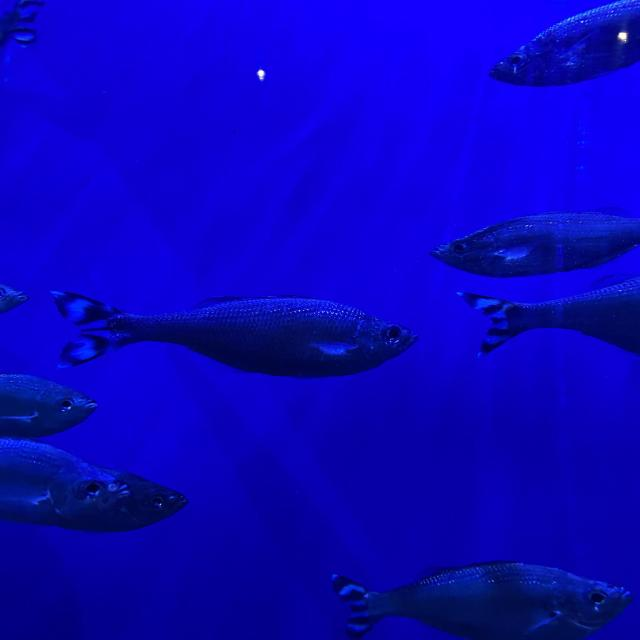fish: (48, 286, 420, 380), (328, 559, 639, 640), (0, 438, 192, 533), (430, 202, 640, 280), (484, 0, 640, 89), (454, 282, 640, 356), (0, 371, 103, 442), (0, 0, 48, 62)
